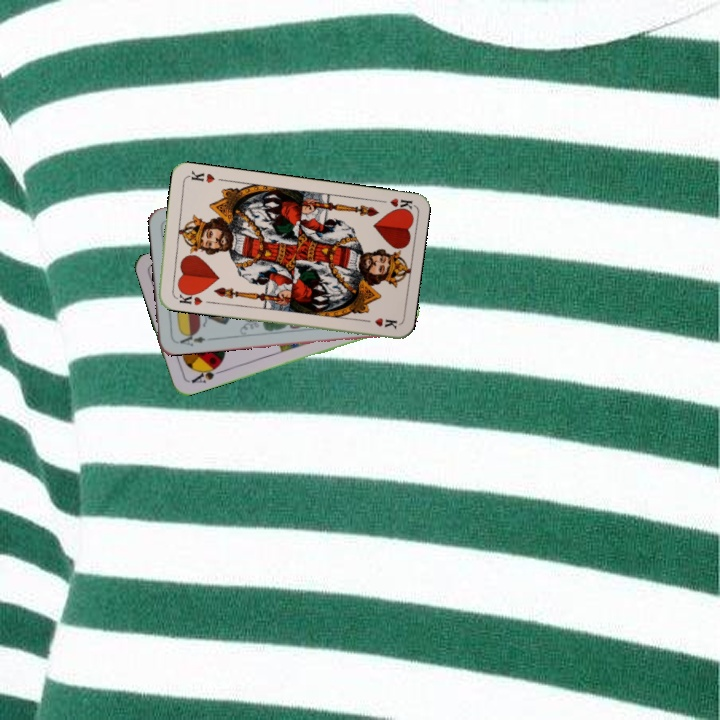EA: (173, 329, 208, 349)
HK: (373, 194, 414, 215), (170, 286, 205, 308)
SA: (185, 361, 225, 386)
